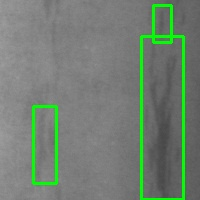inclusion: (141, 36, 183, 199), (33, 106, 56, 183), (153, 5, 171, 42)
